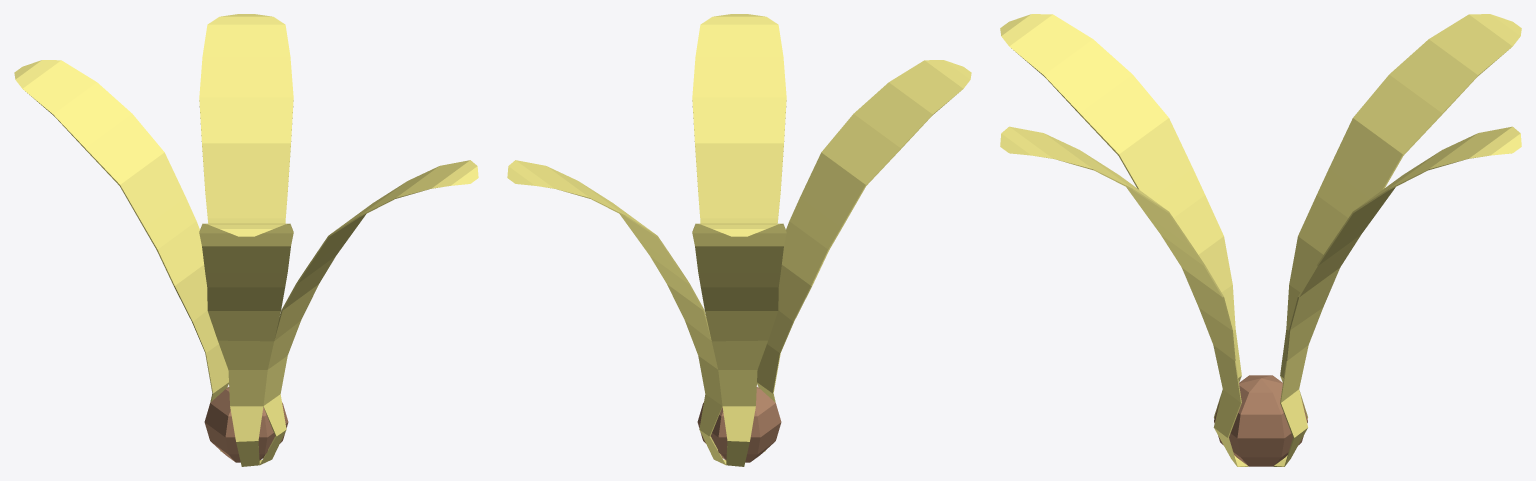
File: seed2.fbx
3 views of the same model, side by side, from view 1: azimuth 30°, elevation 25°; view 2: azimuth 150°, elevation 25°; view 3: azimuth 270°, elevation 25° (orthographic). The views are drawn at different scales.
Visible parts, largest first — view 1: 球体.005; view 2: 球体.005; view 3: 球体.005.
Part boxes in pixels (x1,y1,x2,y2): 球体.005: (14,14,478,466); 球体.005: (507,14,971,466); 球体.005: (1000,14,1521,466).
Bounding box in the file's own units: 90.09 × 111 × 138.
